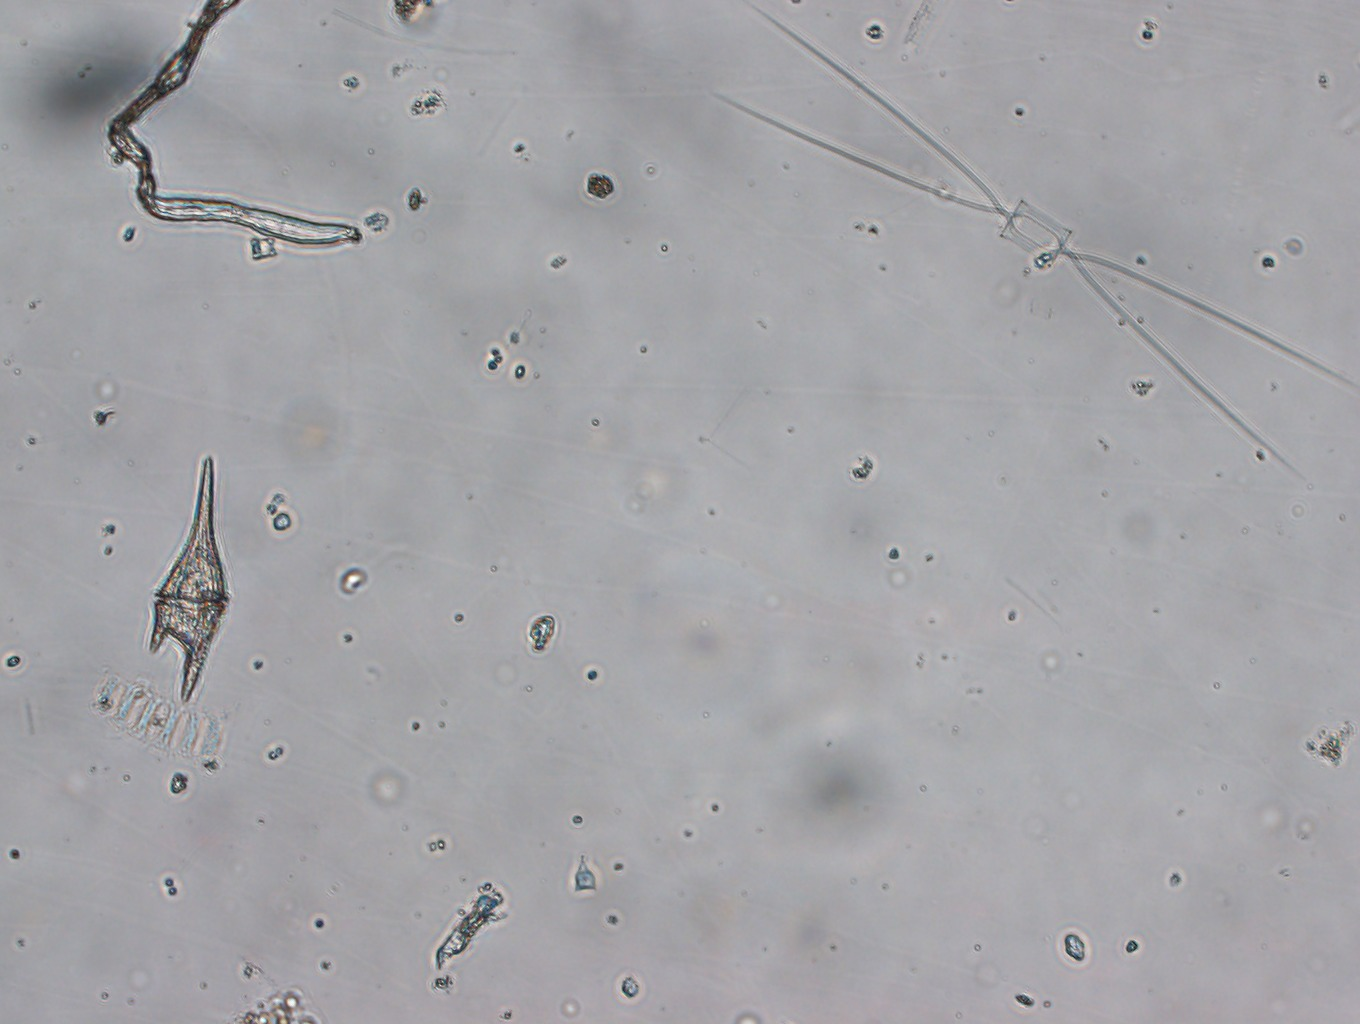ceratium furca: (138, 437, 232, 708)
chaetoceros: (698, 10, 1349, 489)
